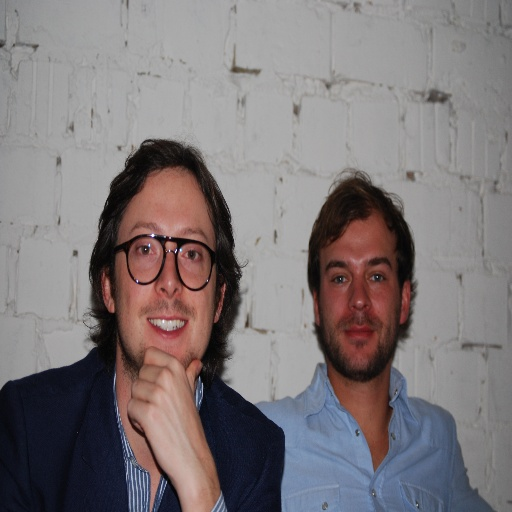hand: (122, 342, 211, 493)
